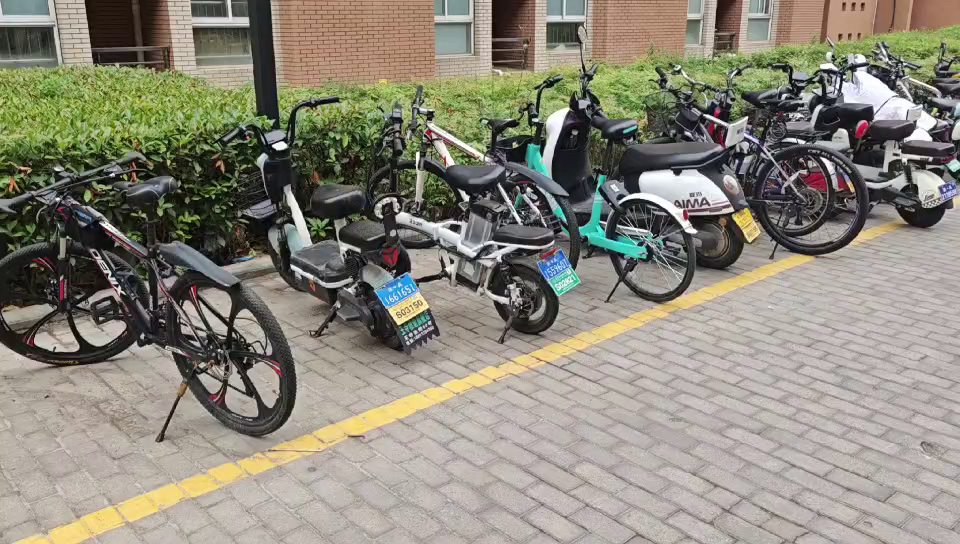others: (6, 166, 275, 437), (218, 109, 413, 354), (372, 104, 559, 324), (662, 58, 870, 255), (751, 58, 951, 231)
shared_bike_qingcong: (480, 78, 679, 304)
